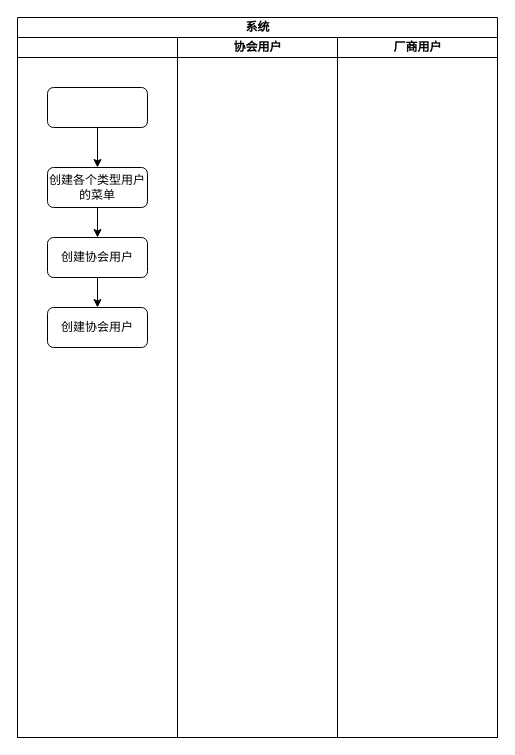
The diagram is 515 pixels wide and 755 high, and some of its shapes have lost their labels. The shapes that lost their labels are listed below. From the top down, each one's box as (x1, y1, x2, y2) in pixels, then its label:
(46, 86, 148, 128): 用户登录
(16, 36, 178, 738): 履信管理用户
